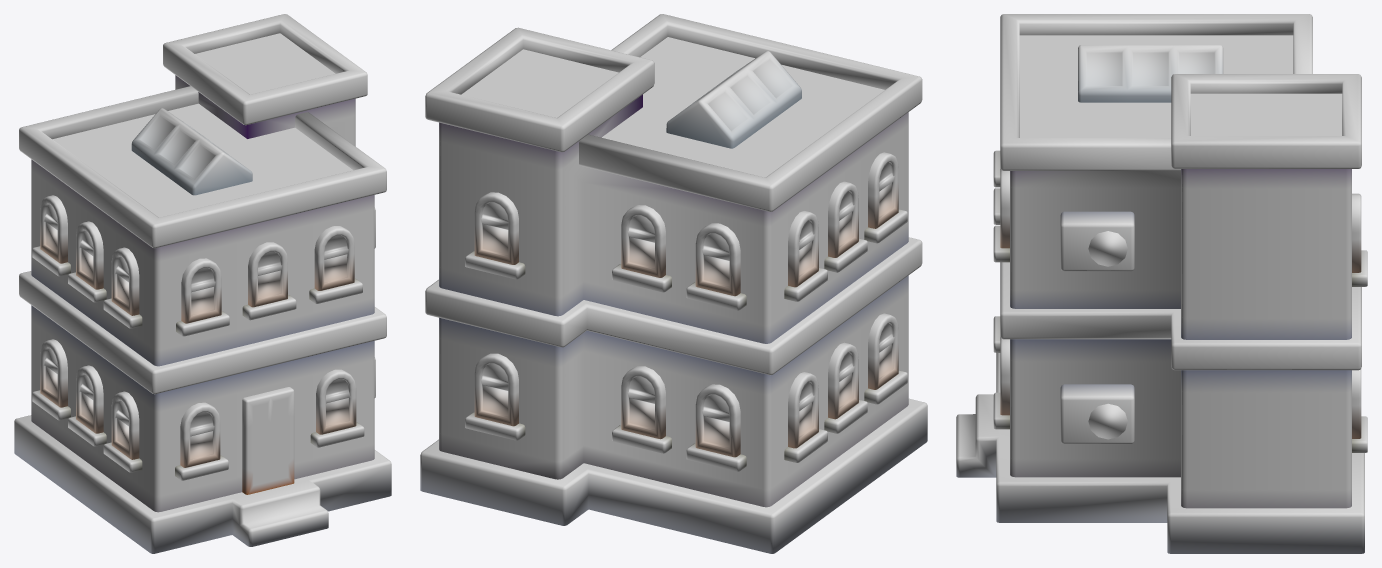
File: Building_047.fbx
The picture shows the model from 3 angles, left to right: view 1: azimuth 30°, elevation 25°; view 2: azimuth 150°, elevation 25°; view 3: azimuth 270°, elevation 25°; orthographic projection. The views are drawn at different scales.
Visible parts, largest first — view 1: Building_047; view 2: Building_047; view 3: Building_047.
Boxes of the visible parts, box(x1,y1,x2,y2) form: Building_047: box(14, 14, 391, 553); Building_047: box(420, 14, 927, 553); Building_047: box(956, 14, 1367, 553).
Bounding box in the file's own units: 811 × 842 × 924.
